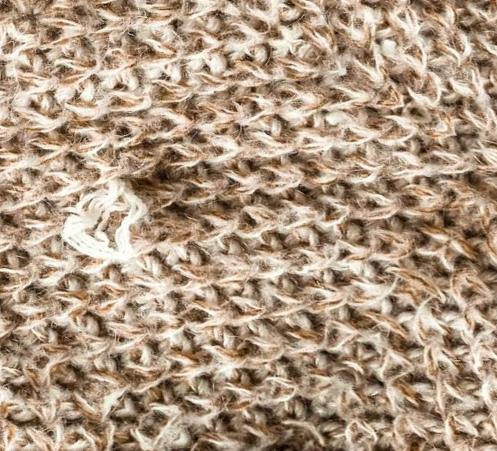snag: (58, 171, 165, 271)
